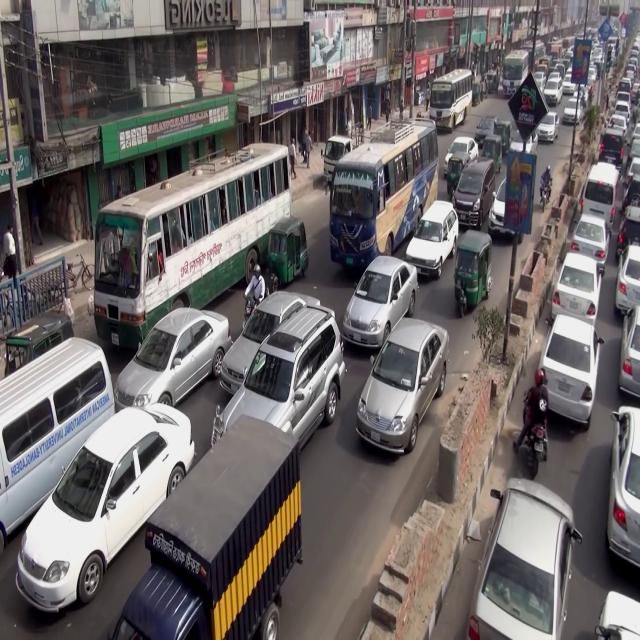black: (616, 207, 640, 256), (601, 128, 624, 170), (476, 115, 496, 148), (623, 174, 640, 209)
maroon: (454, 156, 495, 227)
silver: (0, 335, 114, 544), (215, 302, 345, 480), (467, 481, 581, 640), (115, 306, 227, 426), (359, 317, 449, 458), (221, 284, 313, 393), (344, 247, 413, 354), (540, 315, 601, 422), (606, 405, 640, 565), (558, 253, 603, 327), (580, 164, 620, 216), (574, 215, 614, 267), (618, 306, 640, 400), (616, 242, 640, 313), (537, 112, 560, 143), (544, 78, 563, 105), (563, 99, 580, 127)
white: (15, 401, 193, 614), (404, 201, 458, 274), (443, 138, 480, 178), (626, 156, 640, 185), (614, 100, 630, 122), (564, 74, 574, 96)
